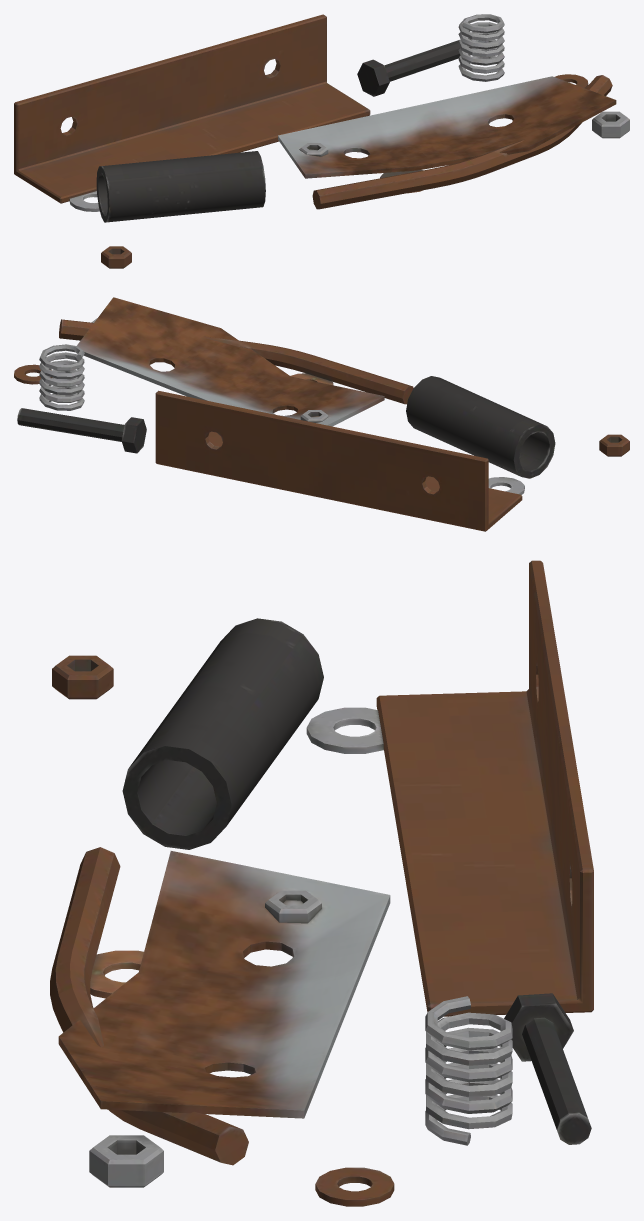
The model's file is sucata_metal.glb.
3 views of the same model, one above another, from view 1: azimuth 30°, elevation 25°; view 2: azimuth 150°, elevation 25°; view 3: azimuth 270°, elevation 25° (orthographic). The views are drawn at different scales.
Visible parts, largest first — view 1: sucata; view 2: sucata; view 3: sucata.
Boxes of the visible parts, <box> form: sucata: <box>14,14,629,268</box>; sucata: <box>14,297,629,531</box>; sucata: <box>50,560,593,1206</box>.
Size of the model in its own units: 0.2848 by 0.0379 by 0.124.
1 material, 1 textured.
